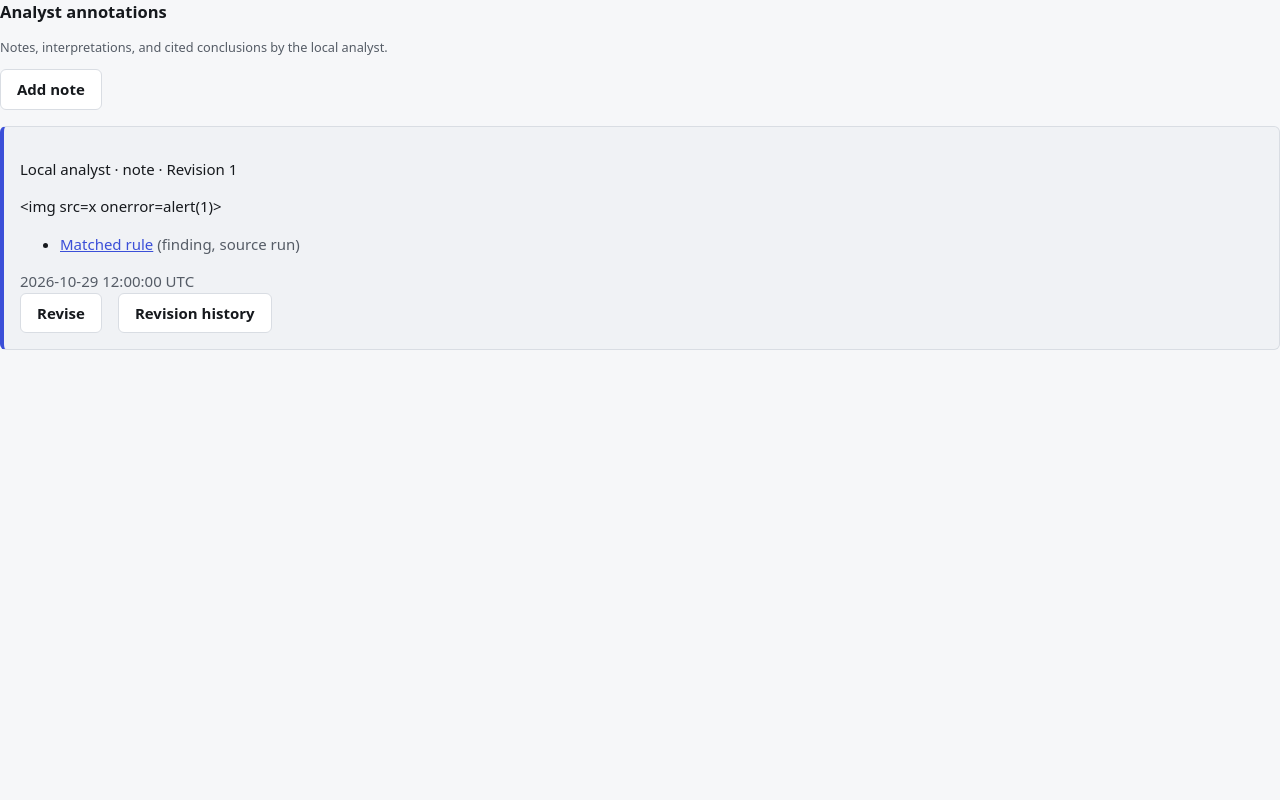
Annotations › preserves a revision draft on conflict
Click the button "Revise".
click(61, 313)  # box top-left (20, 293), bottom-right (102, 333)
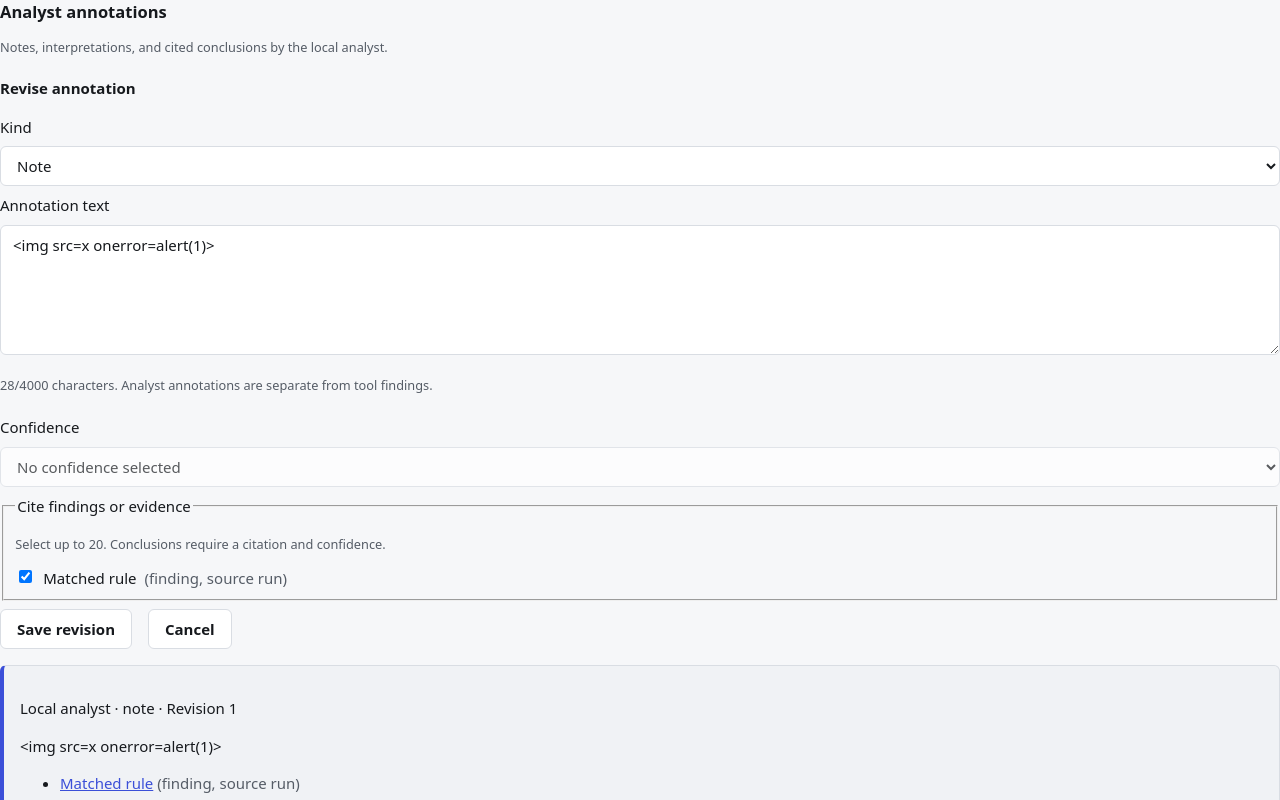
Replace the text in the text box labelled "Annotation text" with "Revised observation" at (640, 290), box top-left (0, 225), bottom-right (1279, 355)
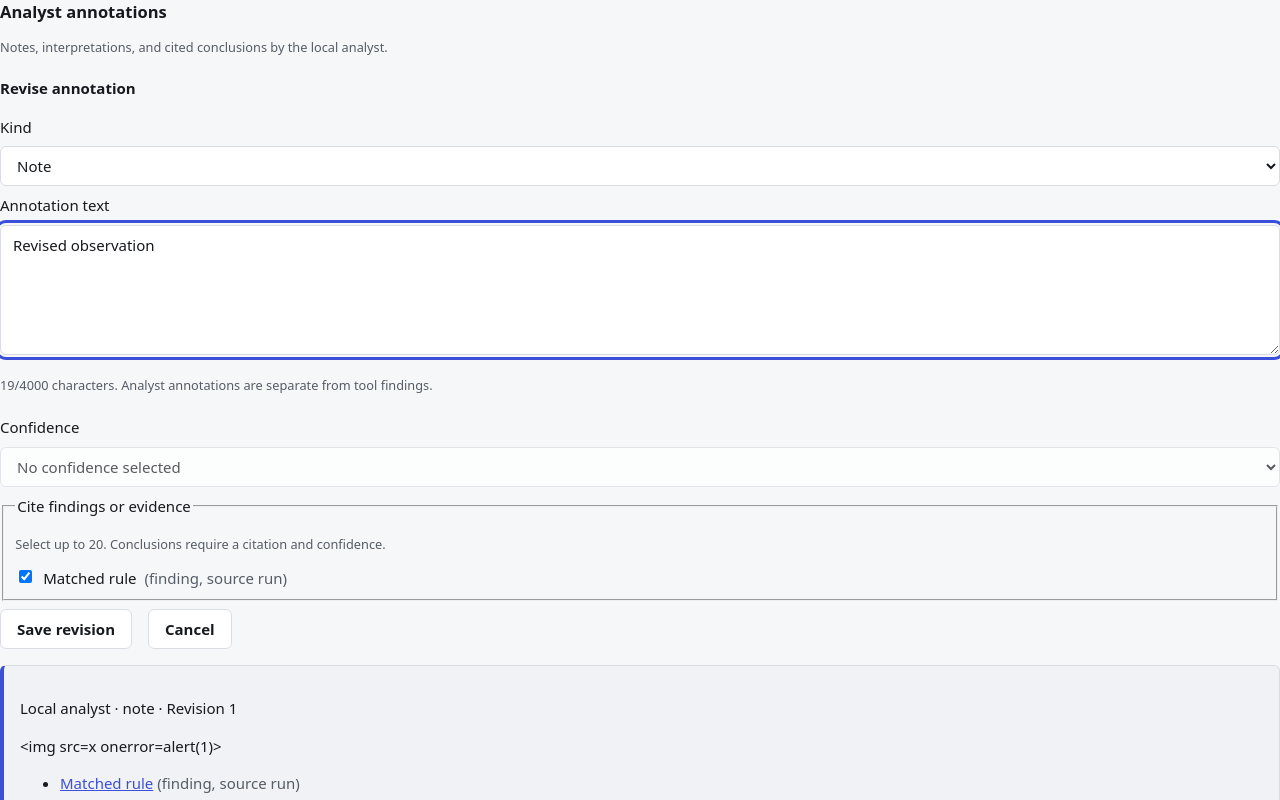
Click the button "Save revision".
click(66, 629)  # box top-left (0, 609), bottom-right (132, 649)
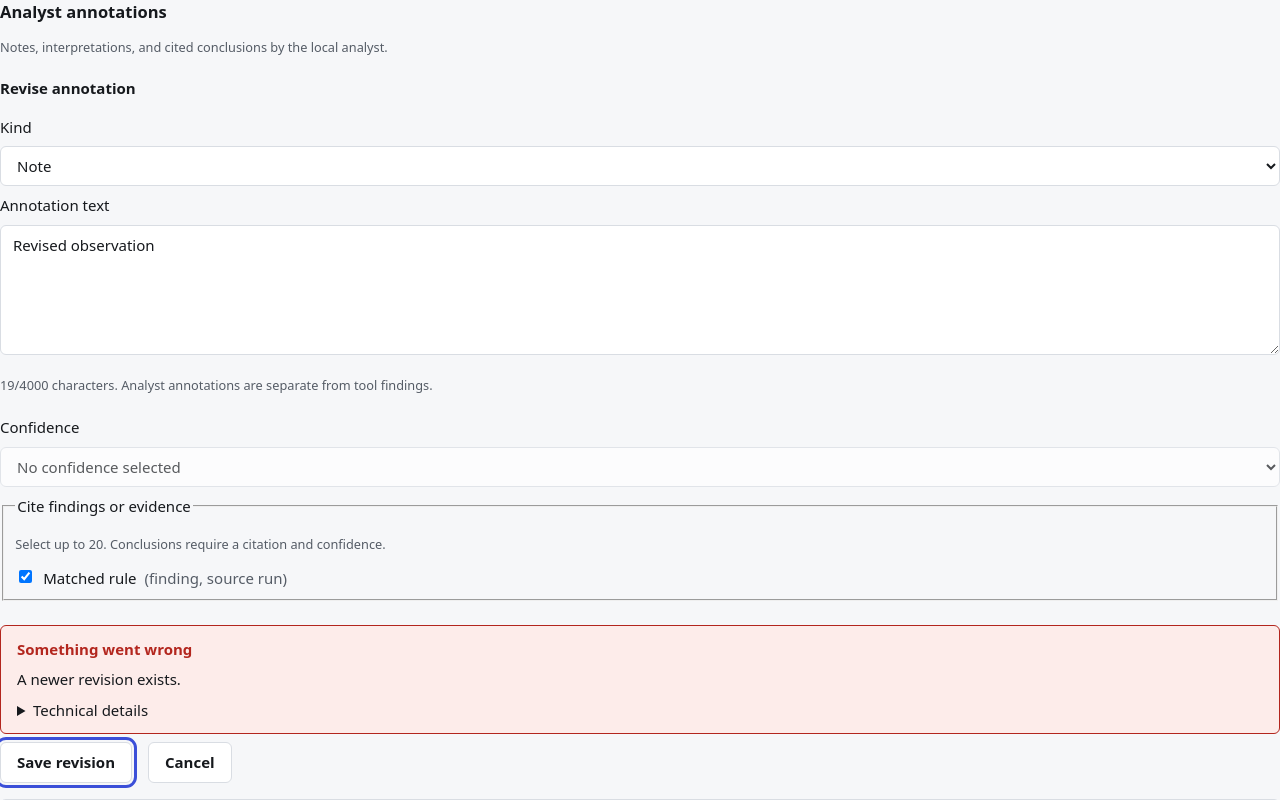
Result: the message "Something went wrong A newer revision exists. Technical details" is shown at top-left (0, 625), bottom-right (1279, 734)
